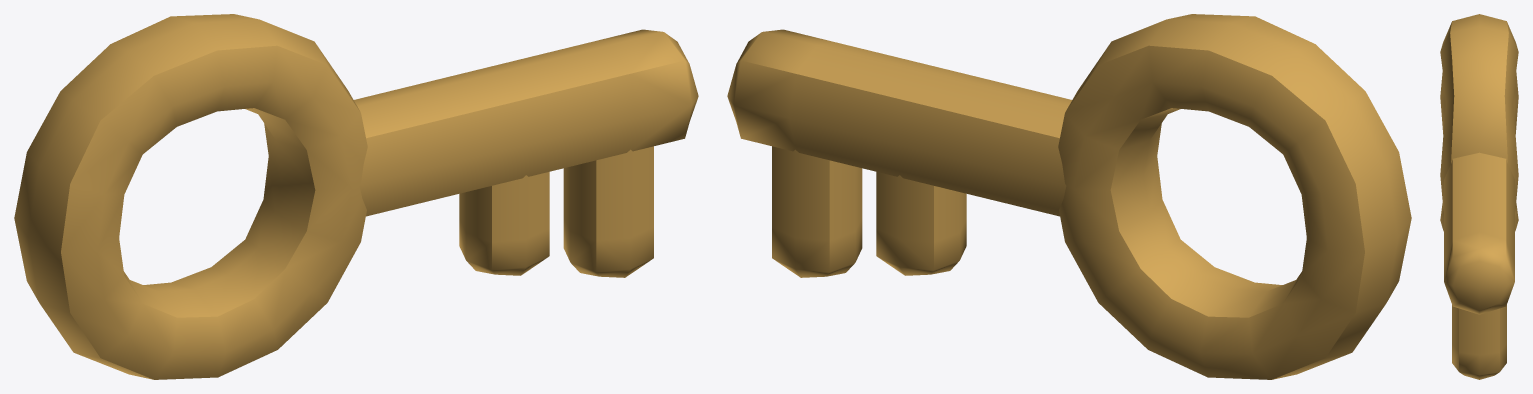
Rendered from key.glb.
3 views of the same model, side by side, from view 1: azimuth 30°, elevation 25°; view 2: azimuth 150°, elevation 25°; view 3: azimuth 270°, elevation 25° (orthographic). The views are drawn at different scales.
Visible parts, largest first — view 1: Key; view 2: Key; view 3: Key.
Boxes of the visible parts, box(x1,y1,x2,y2) form: Key: box(14, 14, 698, 379); Key: box(727, 14, 1411, 379); Key: box(1440, 14, 1518, 379).
Bounding box in the file's own units: 1.93 × 0.9819 × 0.3177.
